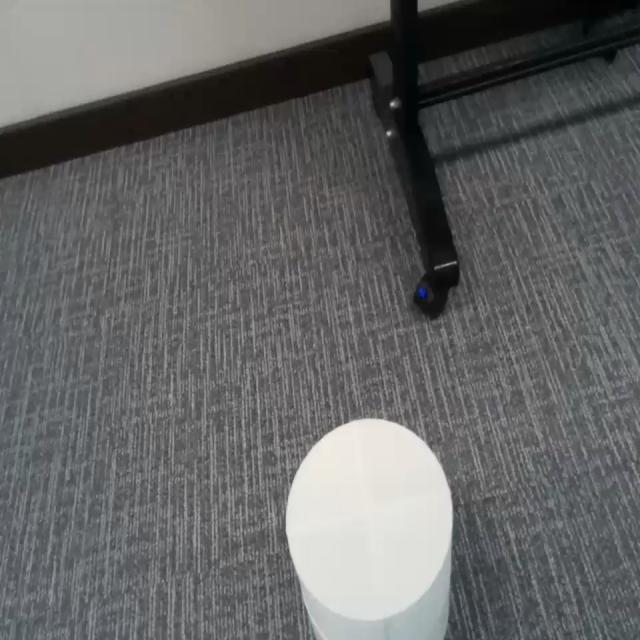cylinder: (285, 417, 453, 639)
